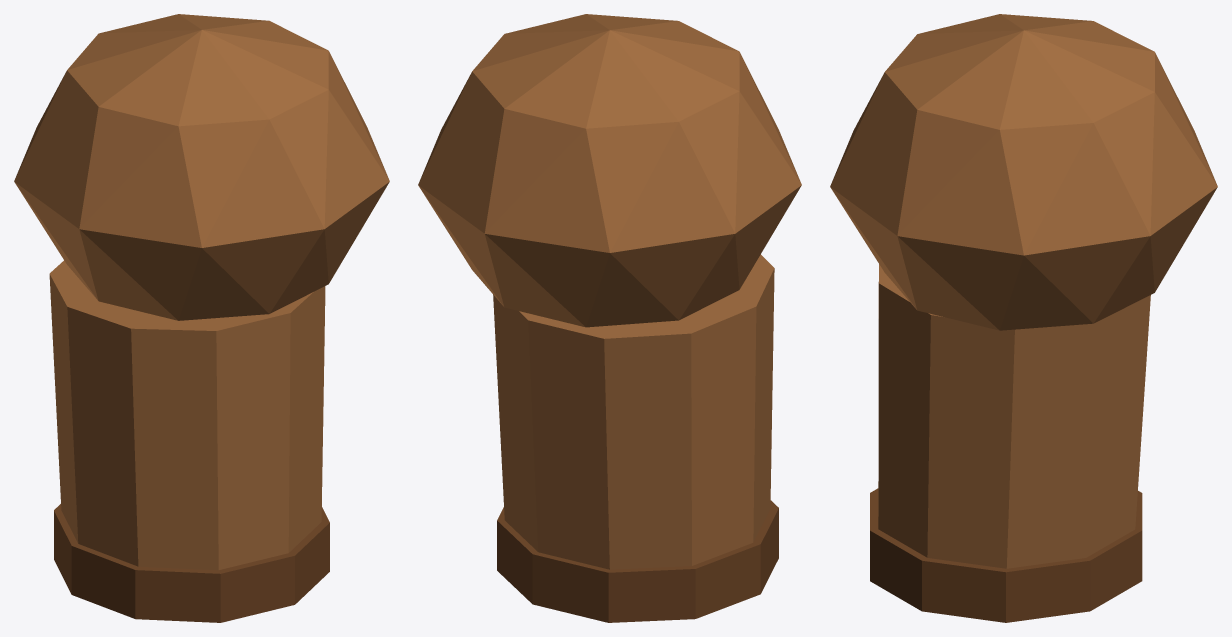
Rendered from gear_leather_body_arm_l.glb.
3 renders of one model, left to right at view 1: azimuth 30°, elevation 25°; view 2: azimuth 150°, elevation 25°; view 3: azimuth 270°, elevation 25°, orthographic. The views are drawn at different scales.
Parts seen in each view (by area): view 1: gear_leather_body_arm_l; view 2: gear_leather_body_arm_l; view 3: gear_leather_body_arm_l.
Boxes of the visible parts, x1,y1,x2,y2 form: gear_leather_body_arm_l: (14,14,389,622); gear_leather_body_arm_l: (418,14,801,622); gear_leather_body_arm_l: (830,14,1217,622).
Bounding box in the file's own units: 0.1707 × 0.267 × 0.1733.
